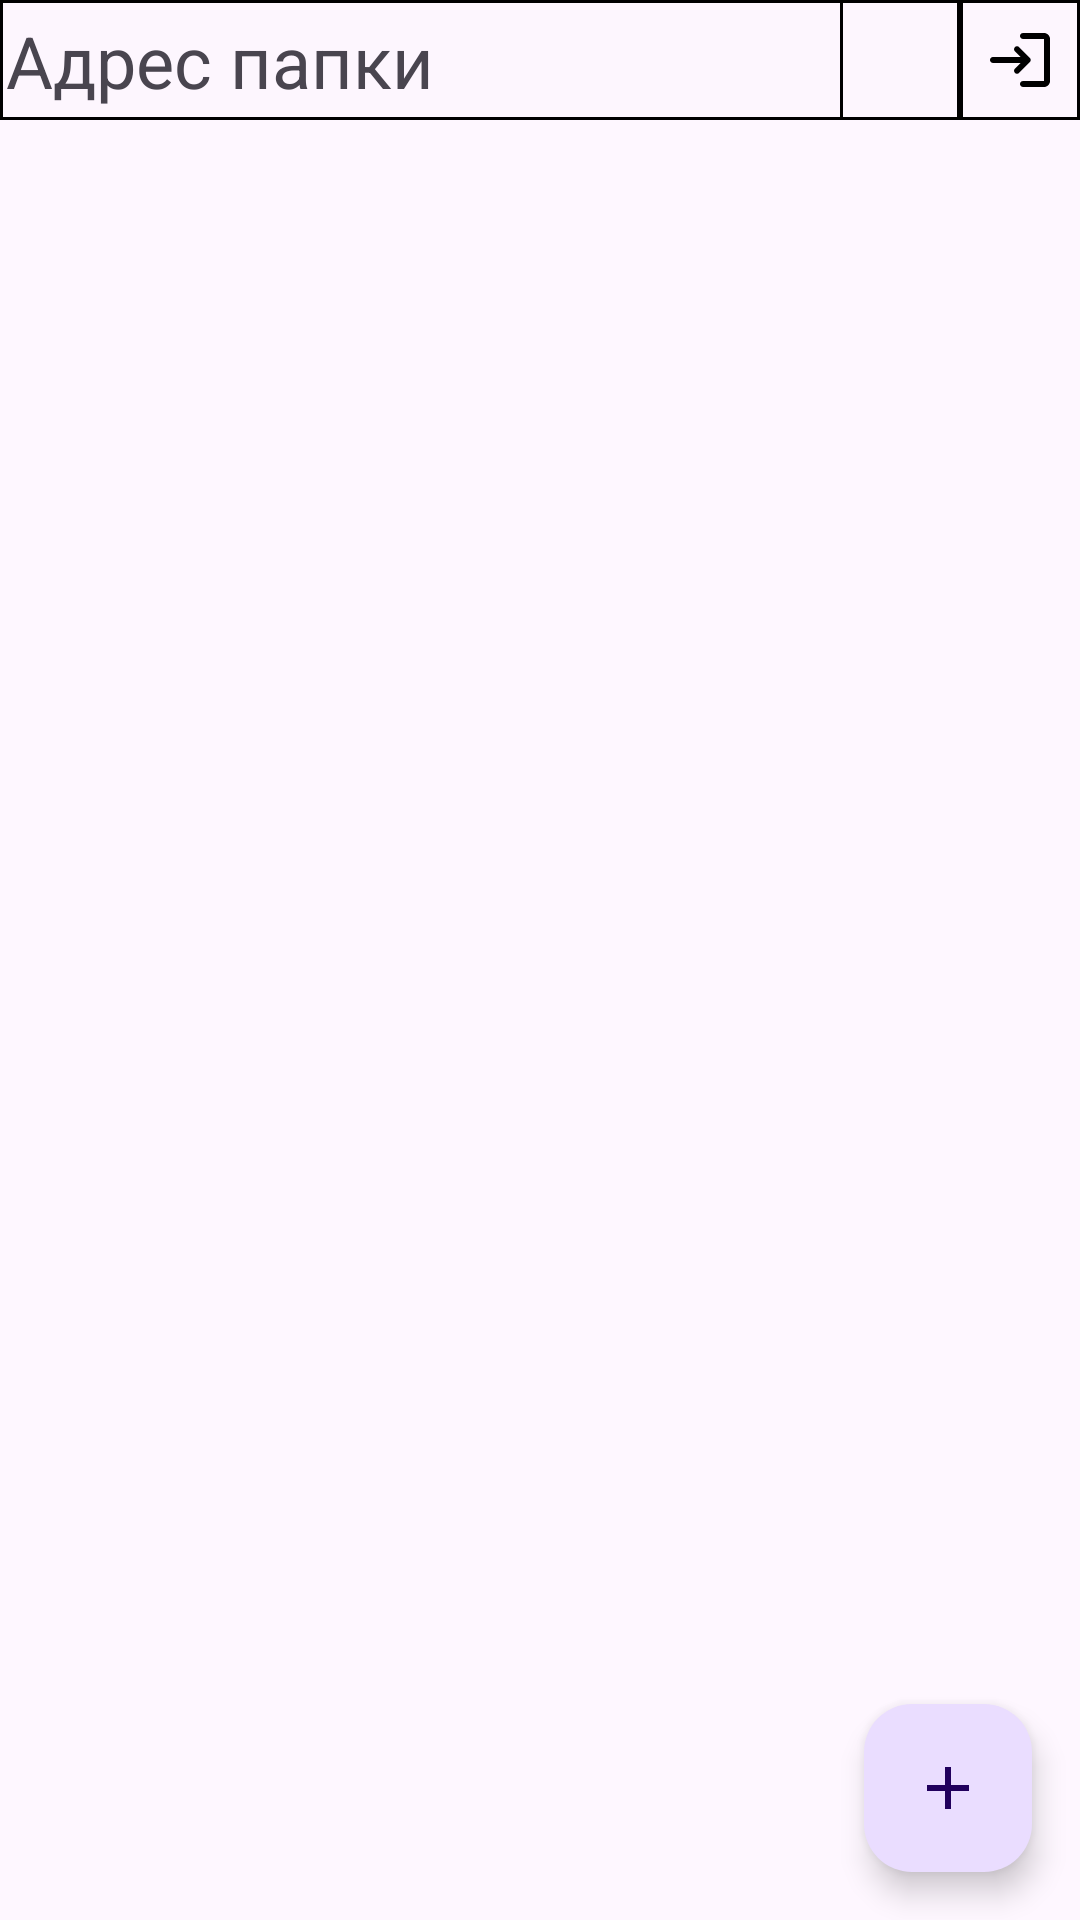

Point at icon controls on the screen. Image size 1080*1920, points as (x=x, y=y).
add: (x=948, y=1788)
login: (x=1020, y=60)
